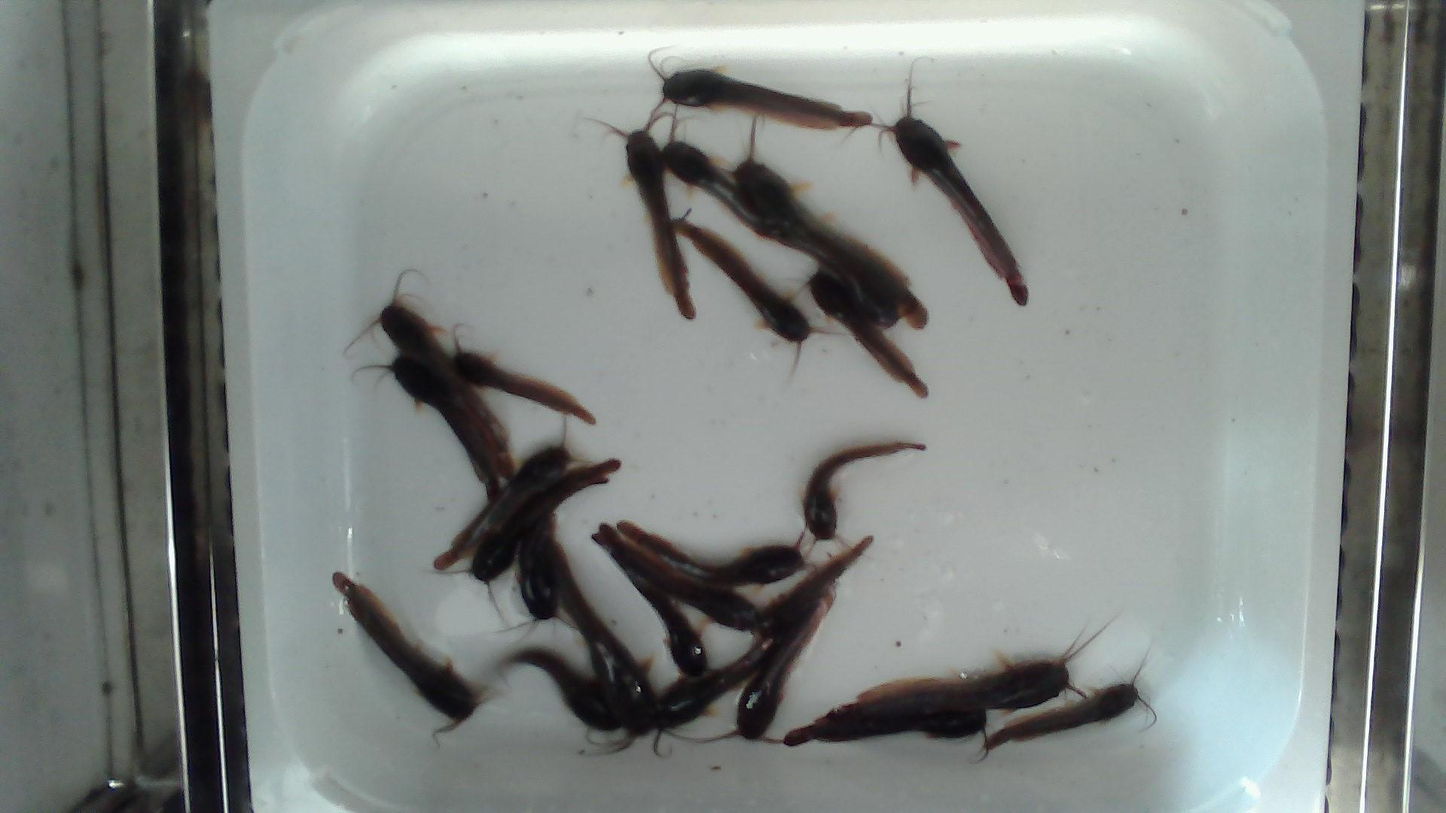lele: (716, 118, 928, 330), (880, 64, 1028, 305), (355, 269, 515, 481), (827, 617, 1116, 719), (447, 459, 621, 618), (433, 414, 591, 570), (686, 584, 837, 743), (549, 538, 659, 755), (676, 219, 828, 373), (334, 572, 480, 732), (359, 354, 500, 502), (596, 110, 695, 318), (599, 523, 760, 633), (982, 653, 1150, 756), (594, 536, 707, 675), (661, 112, 777, 240), (809, 270, 926, 395), (646, 66, 875, 129), (655, 637, 774, 756), (453, 326, 595, 423), (773, 226, 902, 329), (617, 519, 813, 586), (754, 536, 873, 641), (801, 441, 924, 540), (504, 645, 621, 731), (516, 504, 578, 643), (780, 709, 986, 750)
